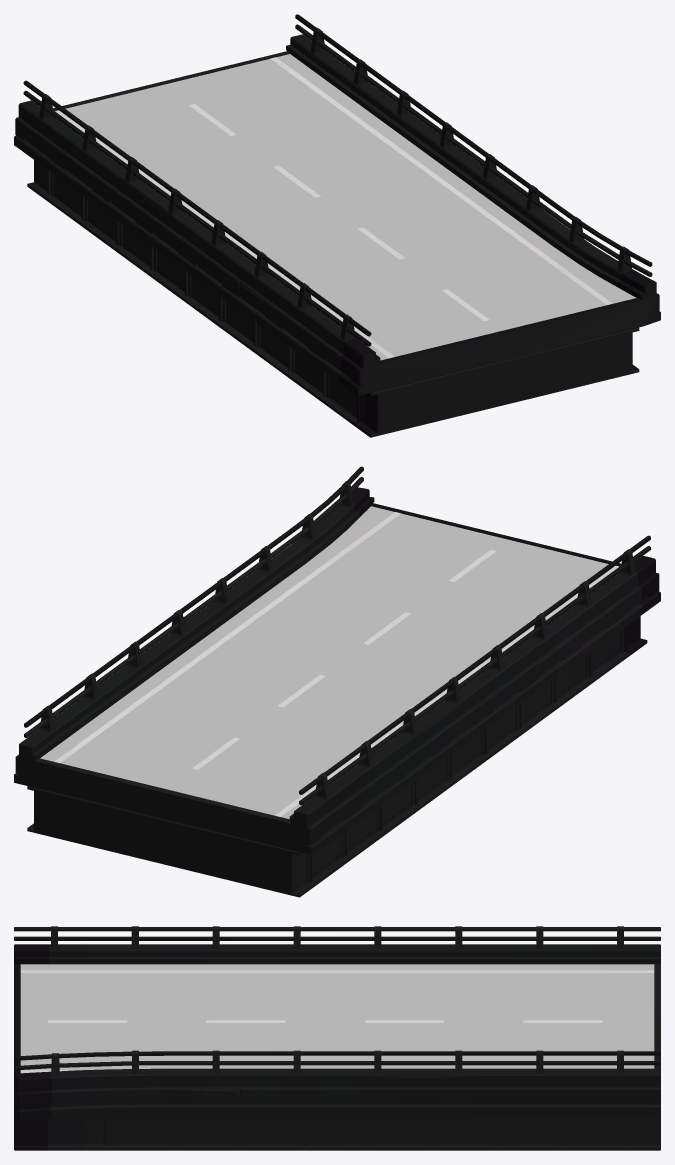
Rendered from Highway_Segment08.fbx.
3 renders of one model, top to bottom at view 1: azimuth 30°, elevation 25°; view 2: azimuth 150°, elevation 25°; view 3: azimuth 270°, elevation 25°, orthographic. The views are drawn at different scales.
Visible parts, largest first — view 1: SM_City_Highway_Segment_04d.mo; view 2: SM_City_Highway_Segment_04d.mo; view 3: SM_City_Highway_Segment_04d.mo.
Part boxes in pixels (bbox=[...]): SM_City_Highway_Segment_04d.mo: bbox=[14, 14, 660, 437]; SM_City_Highway_Segment_04d.mo: bbox=[14, 466, 660, 897]; SM_City_Highway_Segment_04d.mo: bbox=[14, 926, 660, 1150].
Bounding box in the file's own units: 1025 × 342 × 2000.
